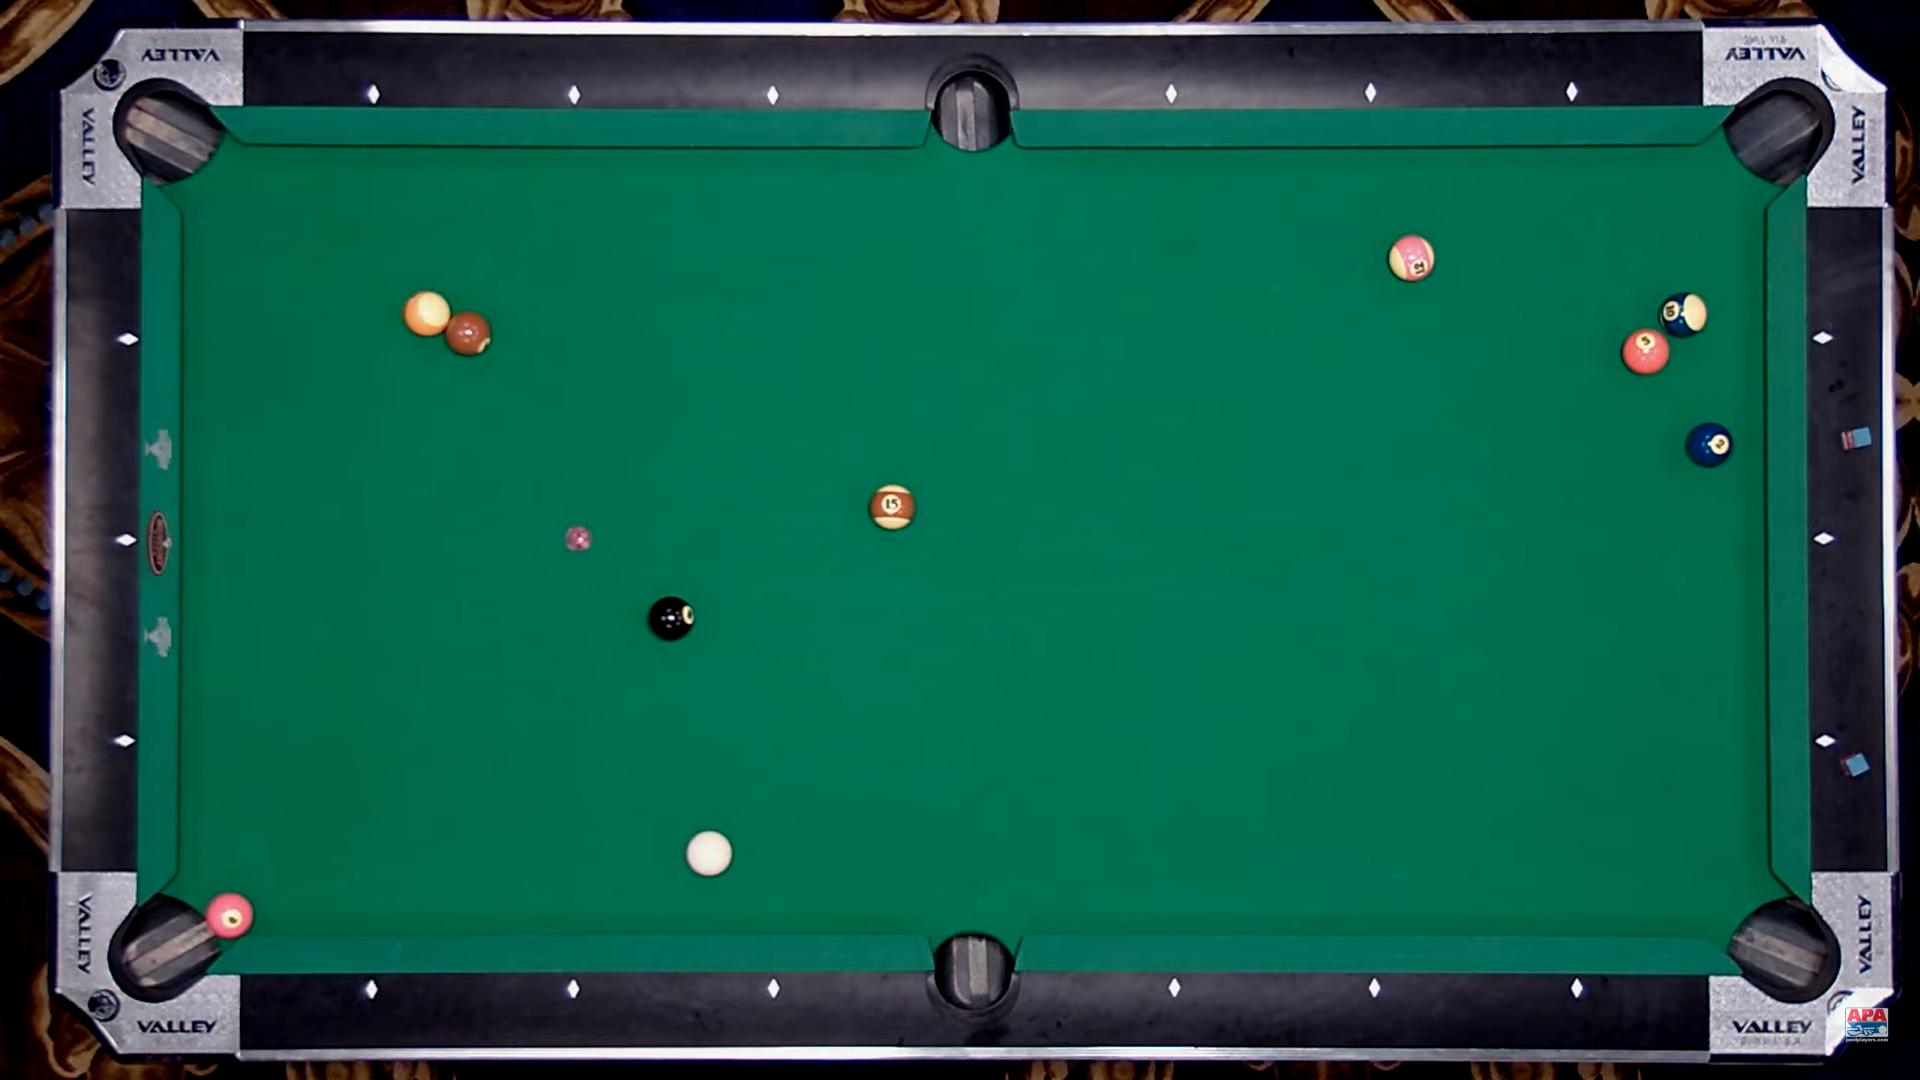Black: (649, 597, 695, 640)
Cue: (687, 831, 733, 876)
Dot: (117, 533, 132, 547), (567, 88, 582, 103), (766, 88, 781, 103), (1164, 87, 1179, 102), (1564, 84, 1578, 99), (1818, 735, 1833, 749), (766, 981, 781, 996), (566, 982, 580, 997), (117, 735, 131, 749), (121, 331, 135, 345), (367, 88, 381, 102), (1364, 86, 1378, 99), (1816, 331, 1829, 345), (1571, 982, 1584, 997), (364, 984, 378, 997), (1817, 533, 1830, 546), (1366, 981, 1379, 994), (1166, 981, 1179, 994)
Solid: (1684, 422, 1733, 468), (1622, 328, 1669, 375), (207, 893, 253, 939), (446, 313, 492, 356)
Striped: (1659, 291, 1708, 339), (1389, 236, 1436, 284), (870, 484, 916, 530), (404, 291, 451, 336)
